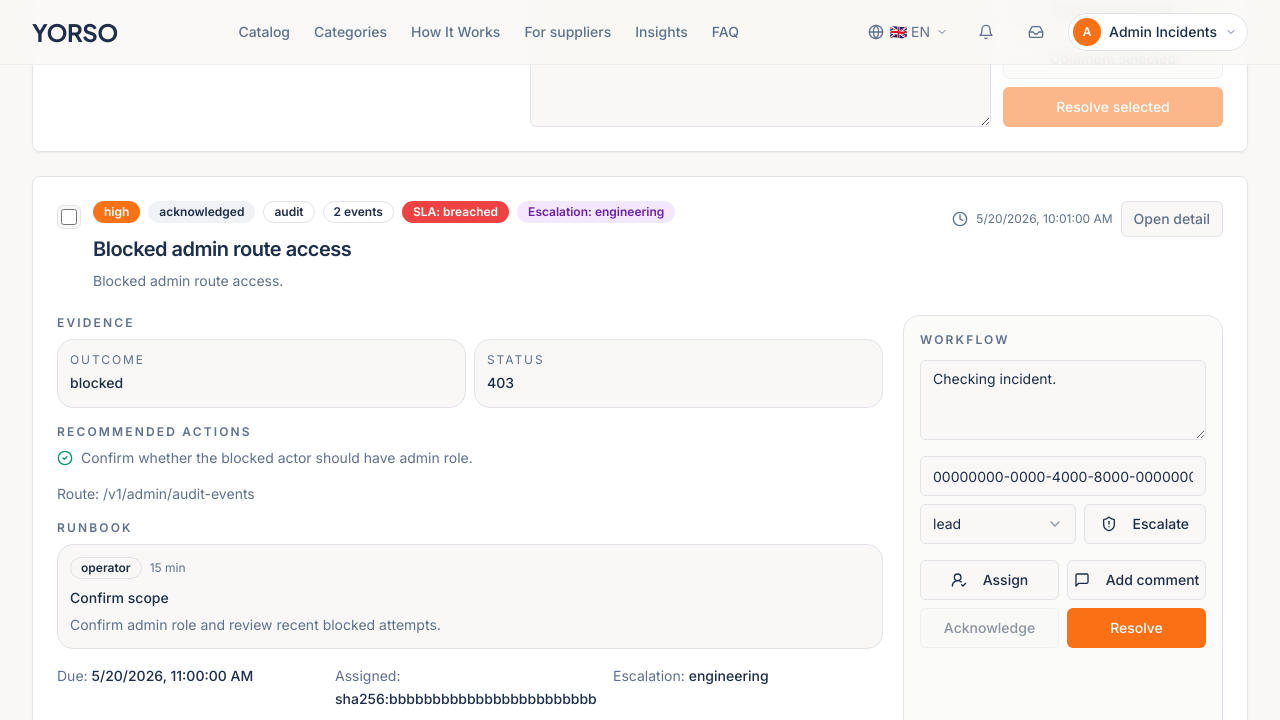
AdminIncidents page › renders incidents and acknowledges from the console without leaking secrets
Earlier steps of the test are not shown.
Later steps or results of the test are not shown.
(page scrolled)
Press the mouse on the dropdown with test id "admin-incident-escalation-audit:admin-blocked:v1-admin-audit-events" at (998, 524), box [920,504,1076,544]
Click the text "engineering" at (729, 676), box [689,667,769,684]
Click the button with test id "admin-incident-escalate-audit:admin-blocked:v1-admin-audit-events" at (1145, 524), box [1084,504,1206,544]
Click the checkbox with test id "admin-incident-select-audit:admin-blocked:v1-admin-audit-events" at (69, 217), box [61,209,77,225]
(page scrolled)
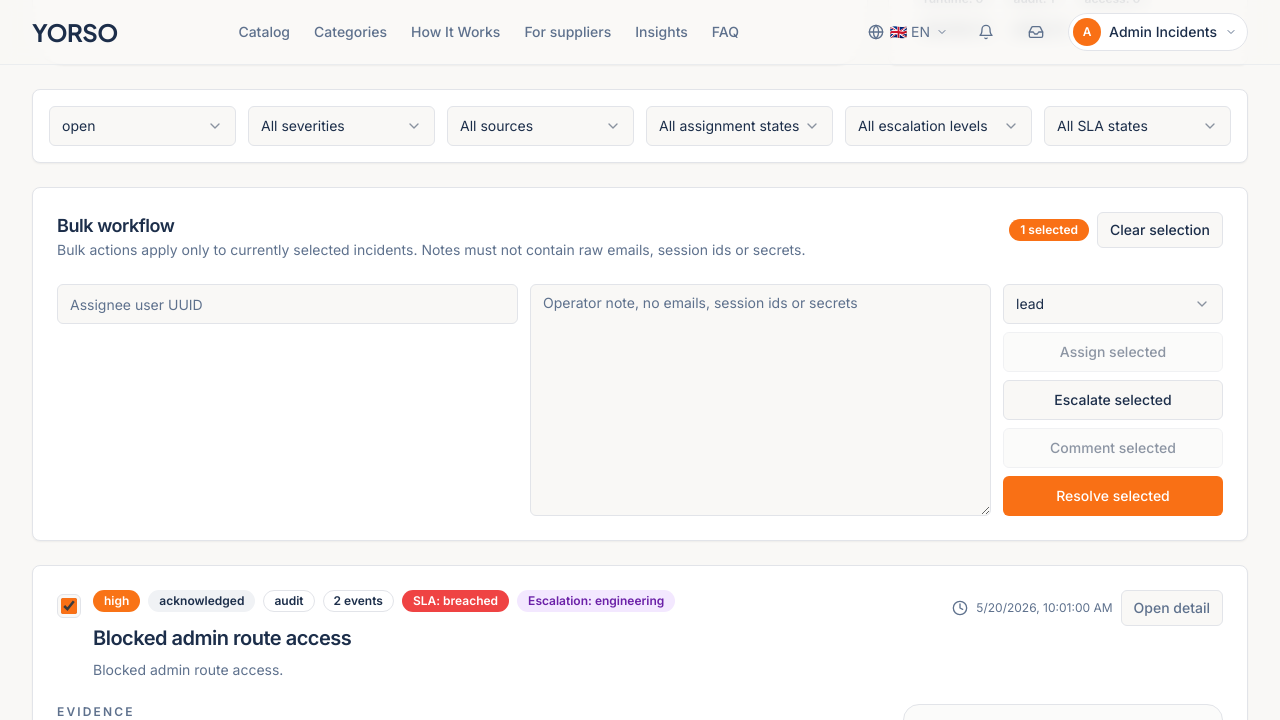
Check: the text with test id "admin-incidents-selected-count" reads "1 selected", box [1009,219,1089,241]
Type "Bulk workflow note." into the text box with test id "admin-incidents-bulk-note" at (760, 400), box [530,284,991,516]
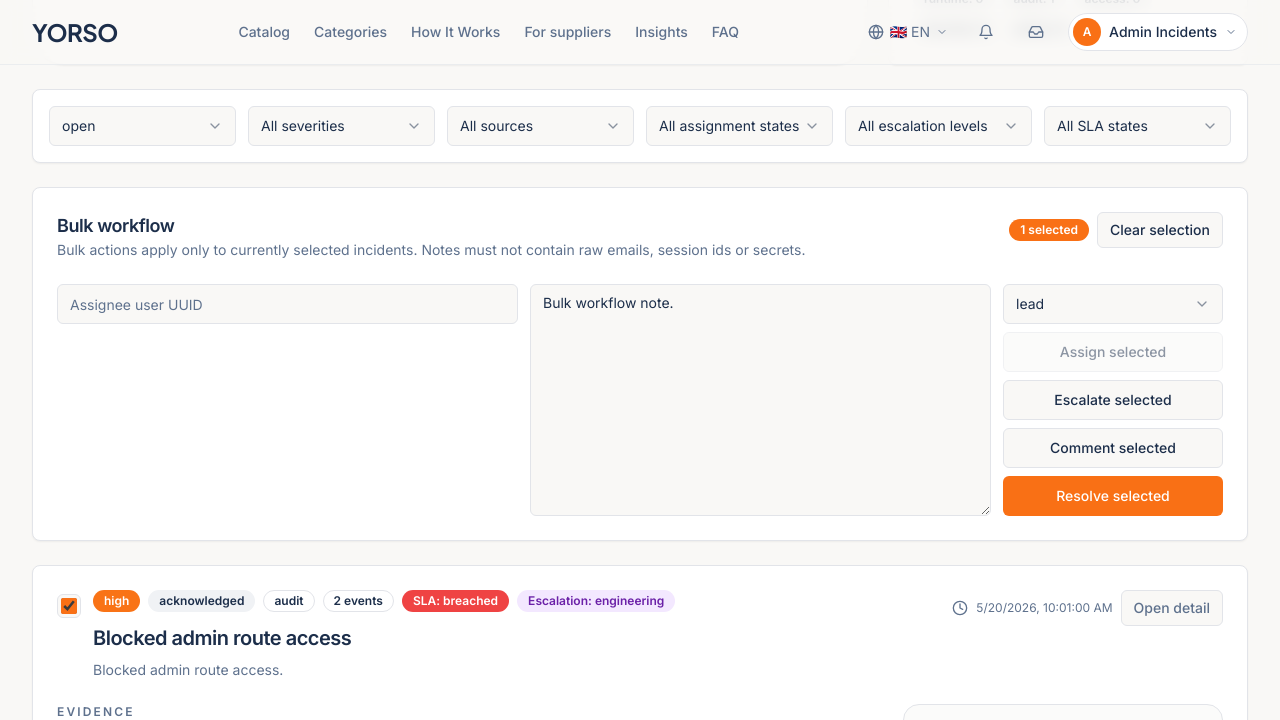
Type "00000000-0000-4000-8000-000000000099" into the field with test id "admin-incidents-bulk-assignee" at (288, 304), box [57,284,518,324]
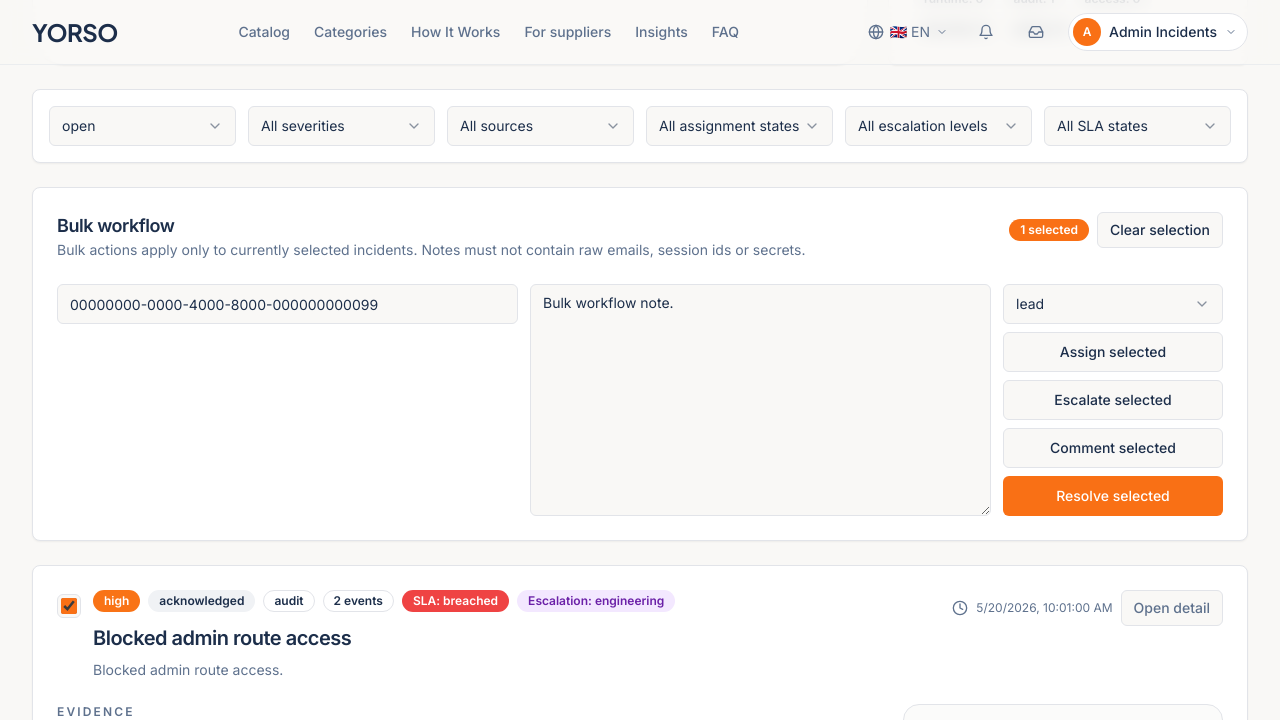
Click the button with test id "admin-incidents-bulk-assign" at (1113, 352), box [1003,332,1223,372]
(page scrolled)
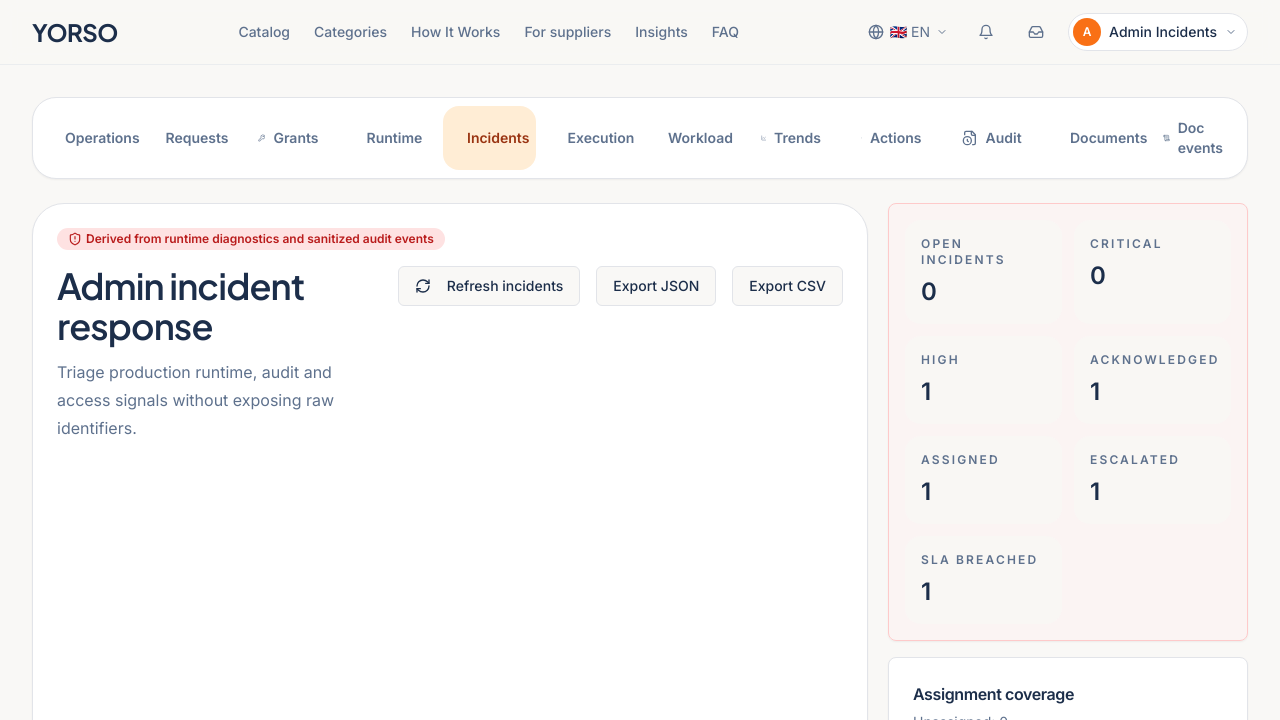
Click the button with test id "admin-incidents-export-json" at (656, 286), box [596,266,716,306]
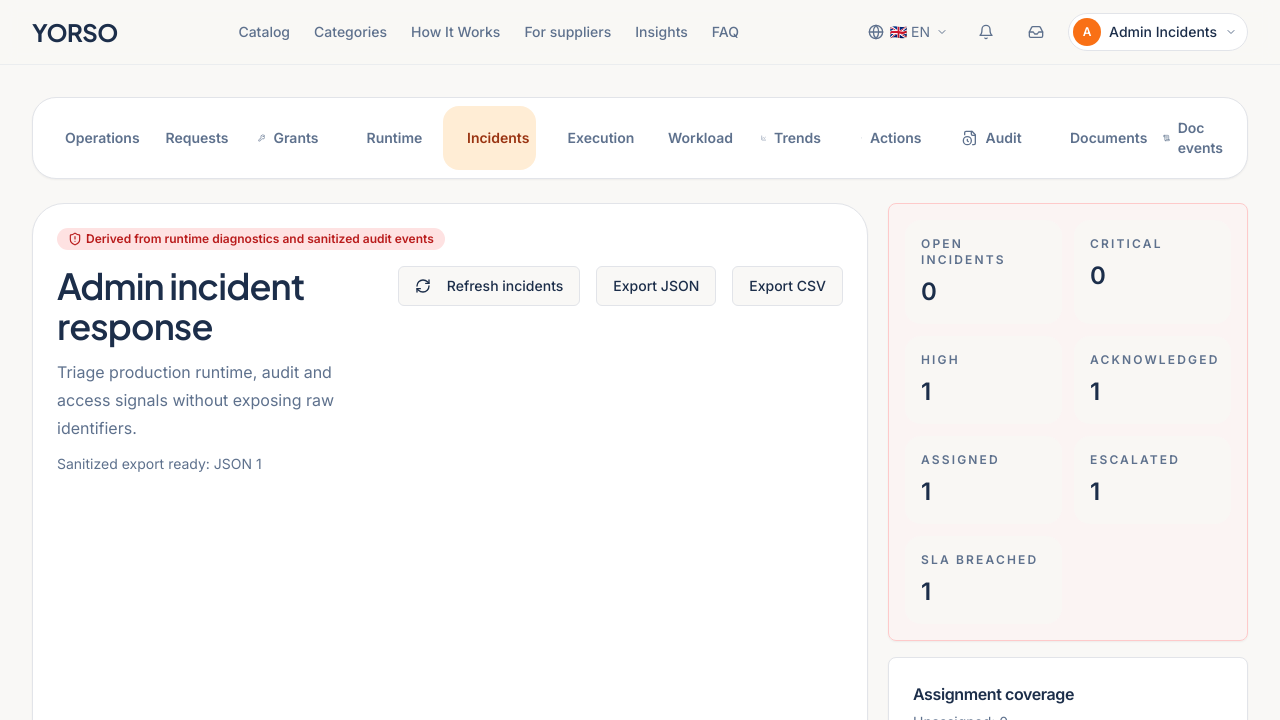
Check: the text with test id "admin-incidents-export-status" shows "JSON 1", box [57,455,262,472]
